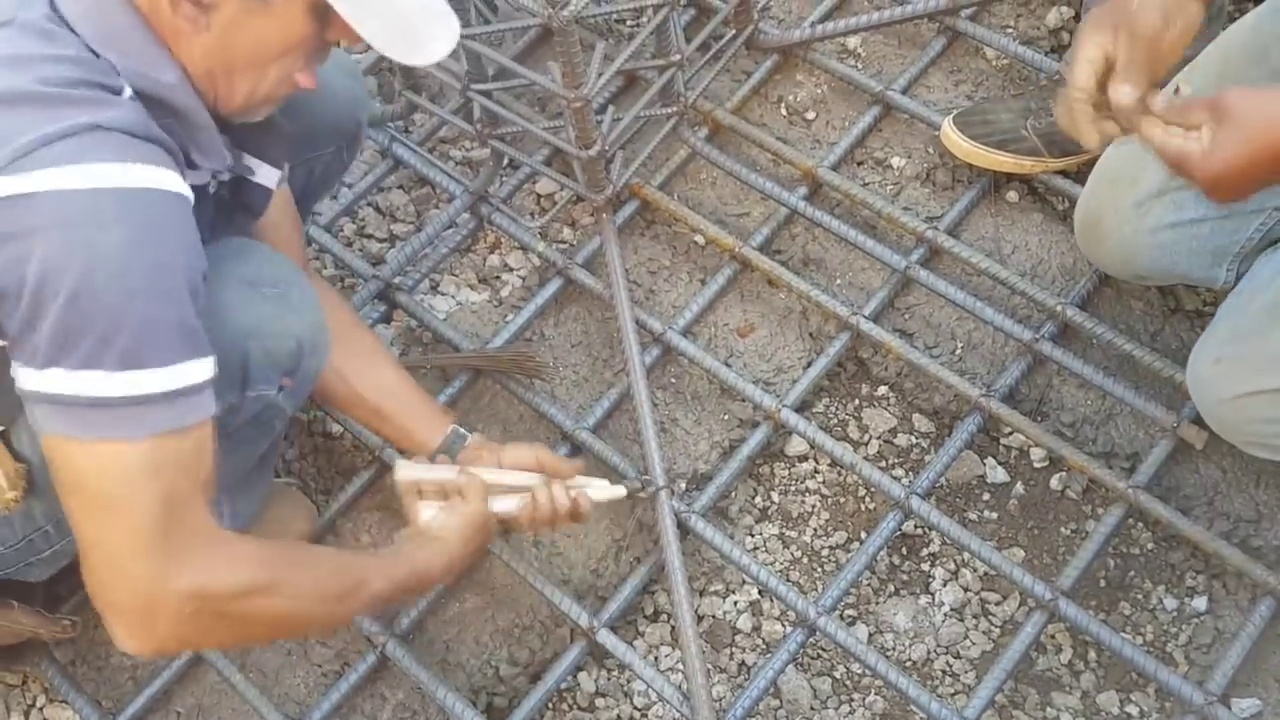helmet-off: (117, 2, 466, 132)
person: (0, 4, 592, 663), (939, 0, 1280, 466)
